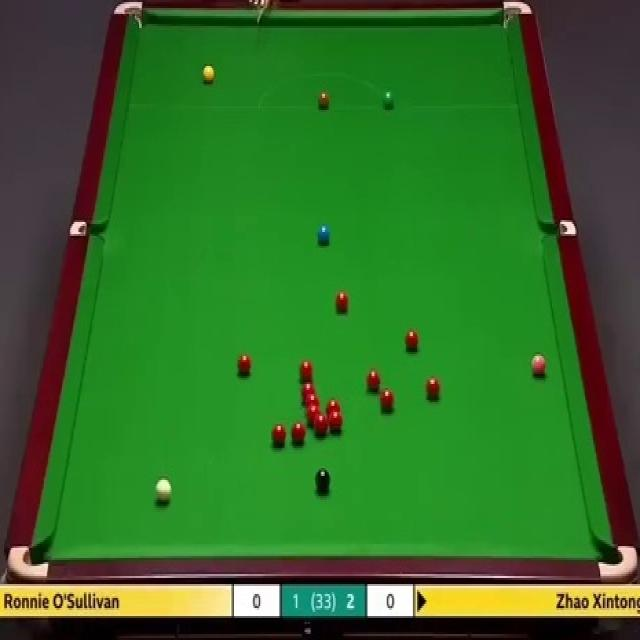black-ball: (315, 466, 331, 496)
blue-ball: (316, 224, 332, 246)
brown-ball: (317, 90, 330, 110)
green-ball: (382, 90, 395, 109)
pink-ball: (531, 352, 547, 378)
red-ball: (379, 387, 396, 416), (290, 420, 307, 448), (335, 289, 352, 316), (236, 352, 253, 379), (270, 422, 286, 446), (424, 375, 440, 399), (298, 359, 314, 383), (328, 410, 343, 435), (405, 328, 420, 352), (366, 368, 380, 392), (314, 413, 328, 435), (302, 381, 315, 397), (307, 405, 320, 421), (305, 394, 320, 407), (326, 401, 340, 414)
white-ball: (156, 478, 170, 502)
yellow-ball: (203, 65, 216, 86)
